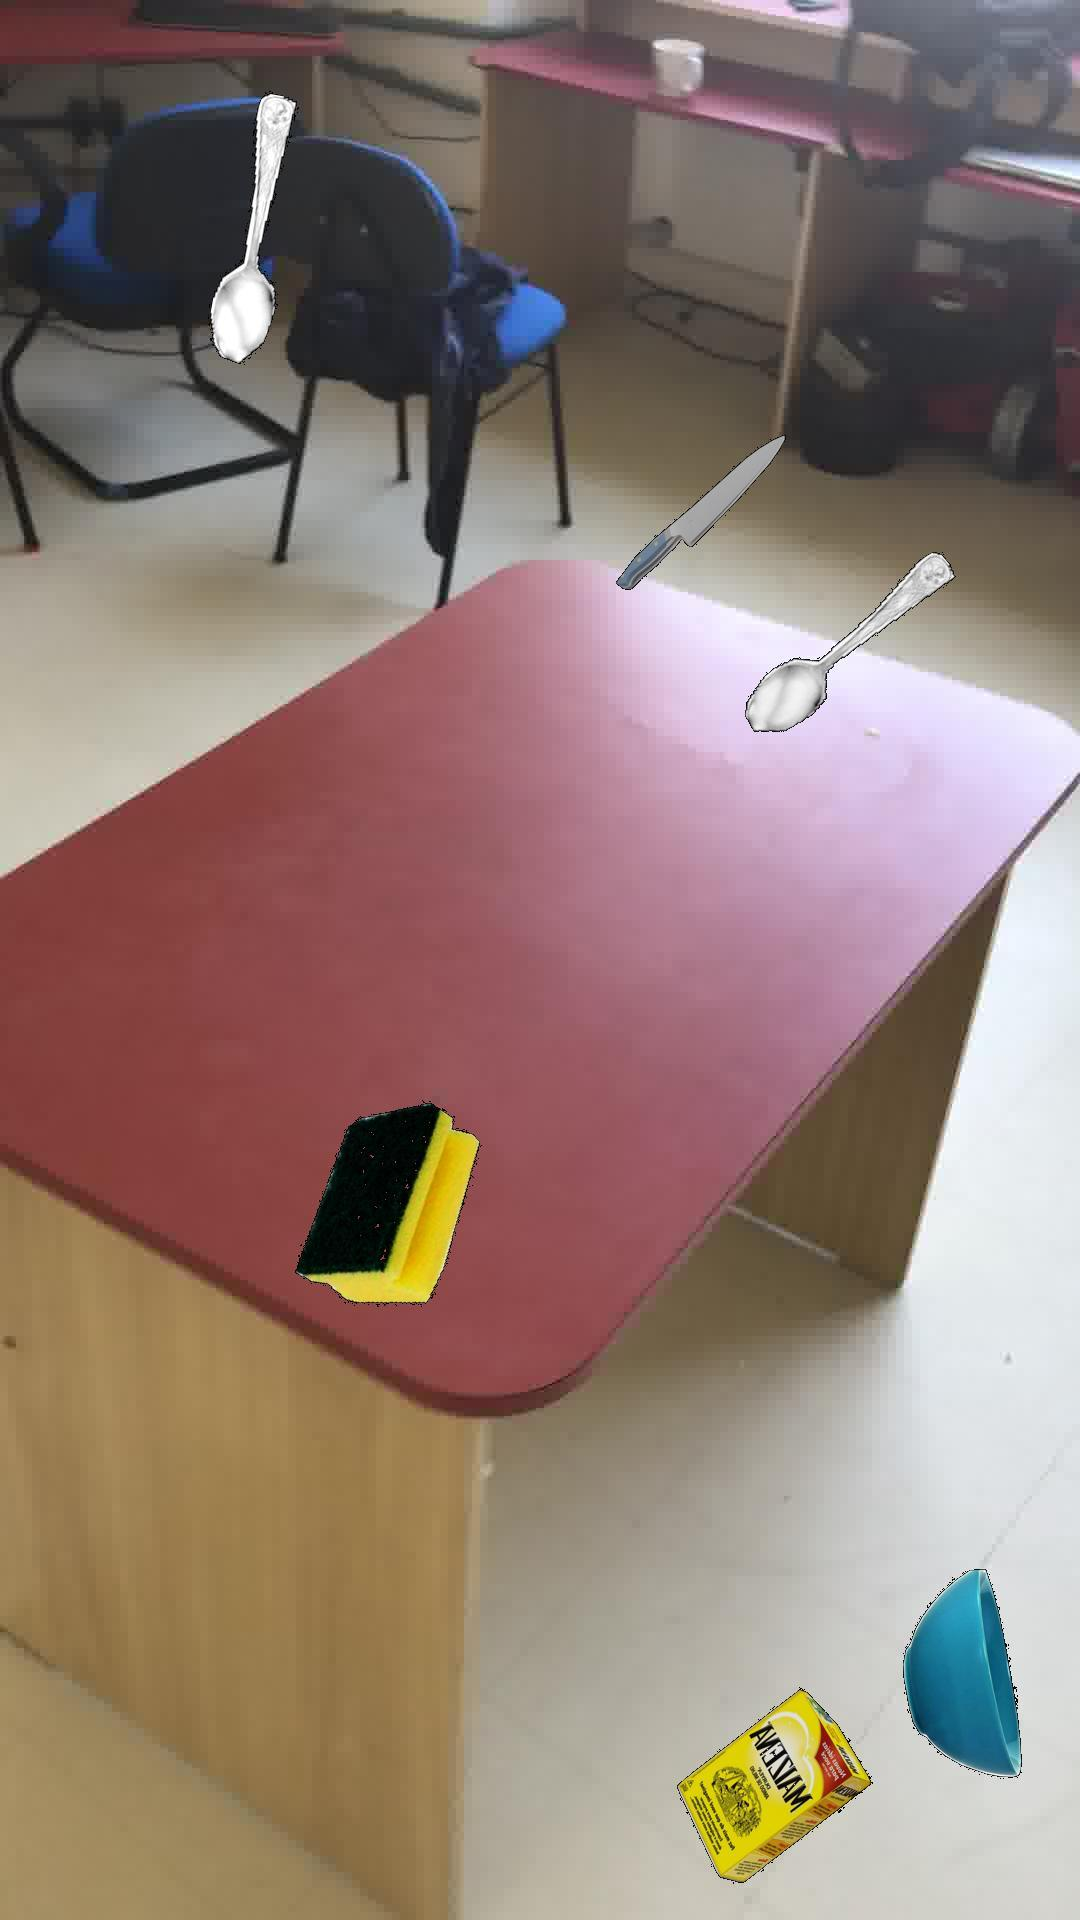bowl: (902, 1568, 1021, 1776)
knife: (615, 434, 785, 588)
sponge: (294, 1101, 479, 1303)
spoon: (744, 550, 955, 731), (207, 91, 295, 363)
